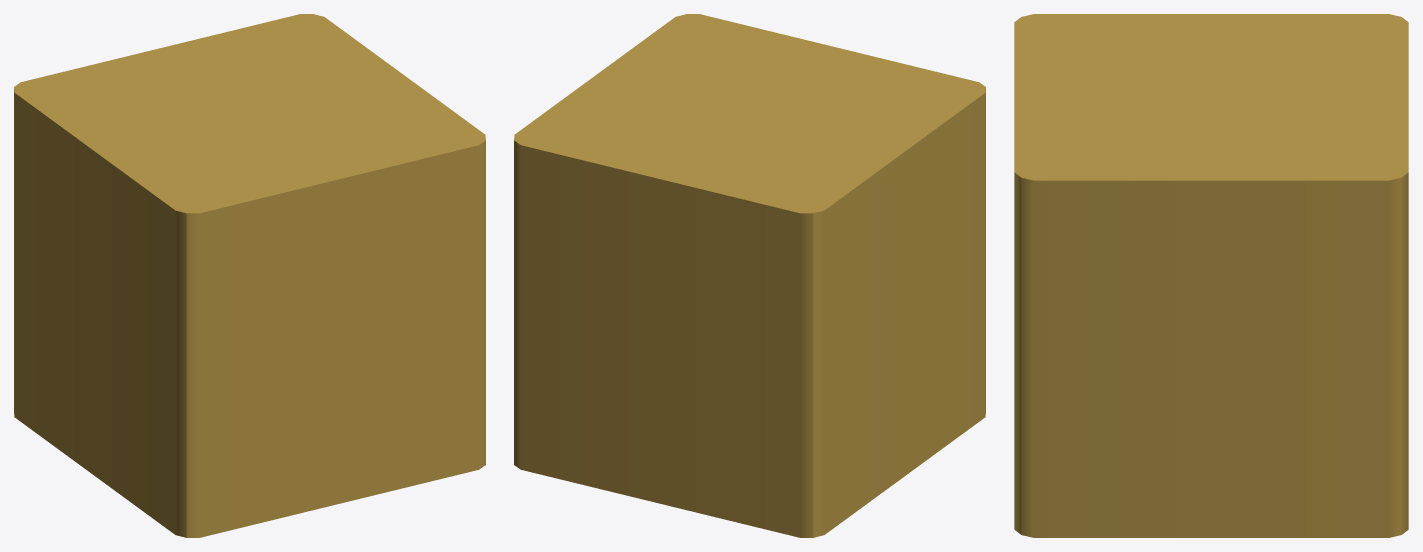
File: block_tumiki.fbx
3 views of the same model, side by side, from view 1: azimuth 30°, elevation 25°; view 2: azimuth 150°, elevation 25°; view 3: azimuth 270°, elevation 25° (orthographic). The views are drawn at different scales.
Visible parts, largest first — view 1: pCube1; view 2: pCube1; view 3: pCube1.
Part boxes in pixels (bbox=[...]): pCube1: bbox=[14, 14, 485, 537]; pCube1: bbox=[514, 14, 985, 537]; pCube1: bbox=[1014, 14, 1408, 537].
Size of the model in its own units: 3 by 3 by 3.
